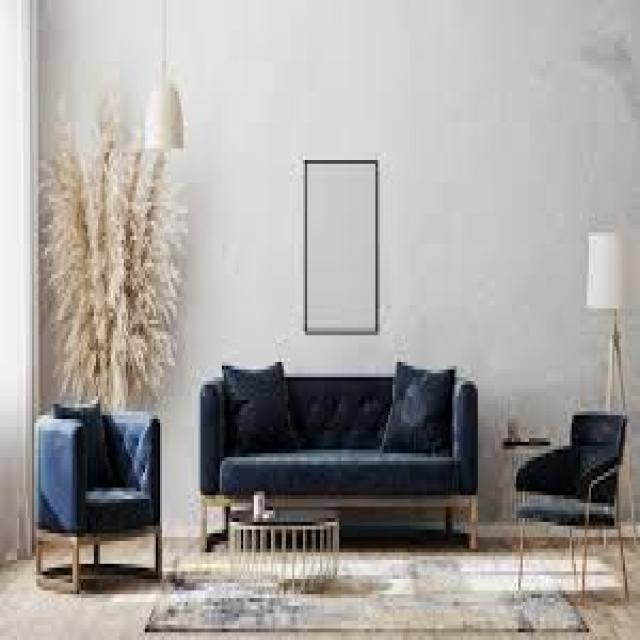Chair: (29, 373, 165, 593), (504, 397, 629, 607)
Lamp: (582, 206, 640, 507), (125, 68, 202, 161)
Sofa: (189, 338, 489, 564)
Table: (218, 500, 353, 586)
